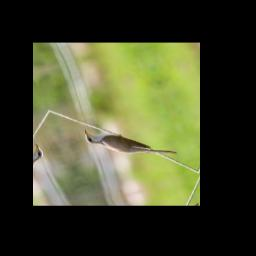Cuckoo: (82, 108, 181, 176)
